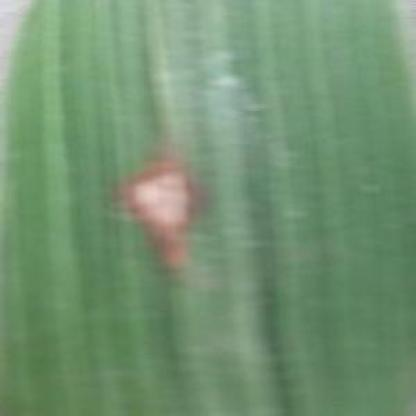Rice blast: (98, 136, 227, 267)
